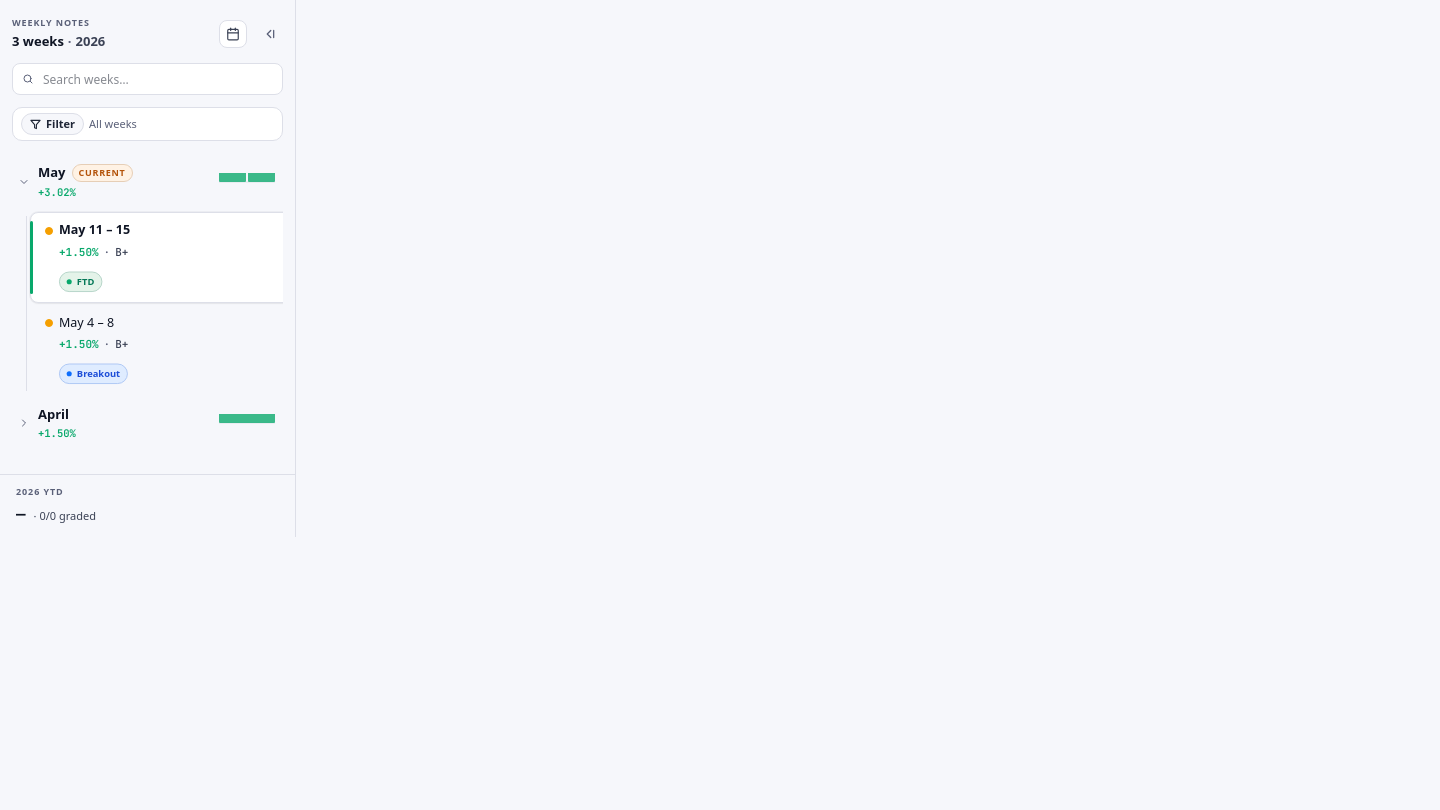
Test: NotesRail — Phase 6 left-rail navigator › multi-select: two selected tags use OR semantics — weeks matching either show
This screenshot has width=1440, height=810.
What coordinates should you click on to do the following:
click the button with test id "rail-filter-trigger"
I would click on:
 (52, 124)
Its box is [21,113,84,135].
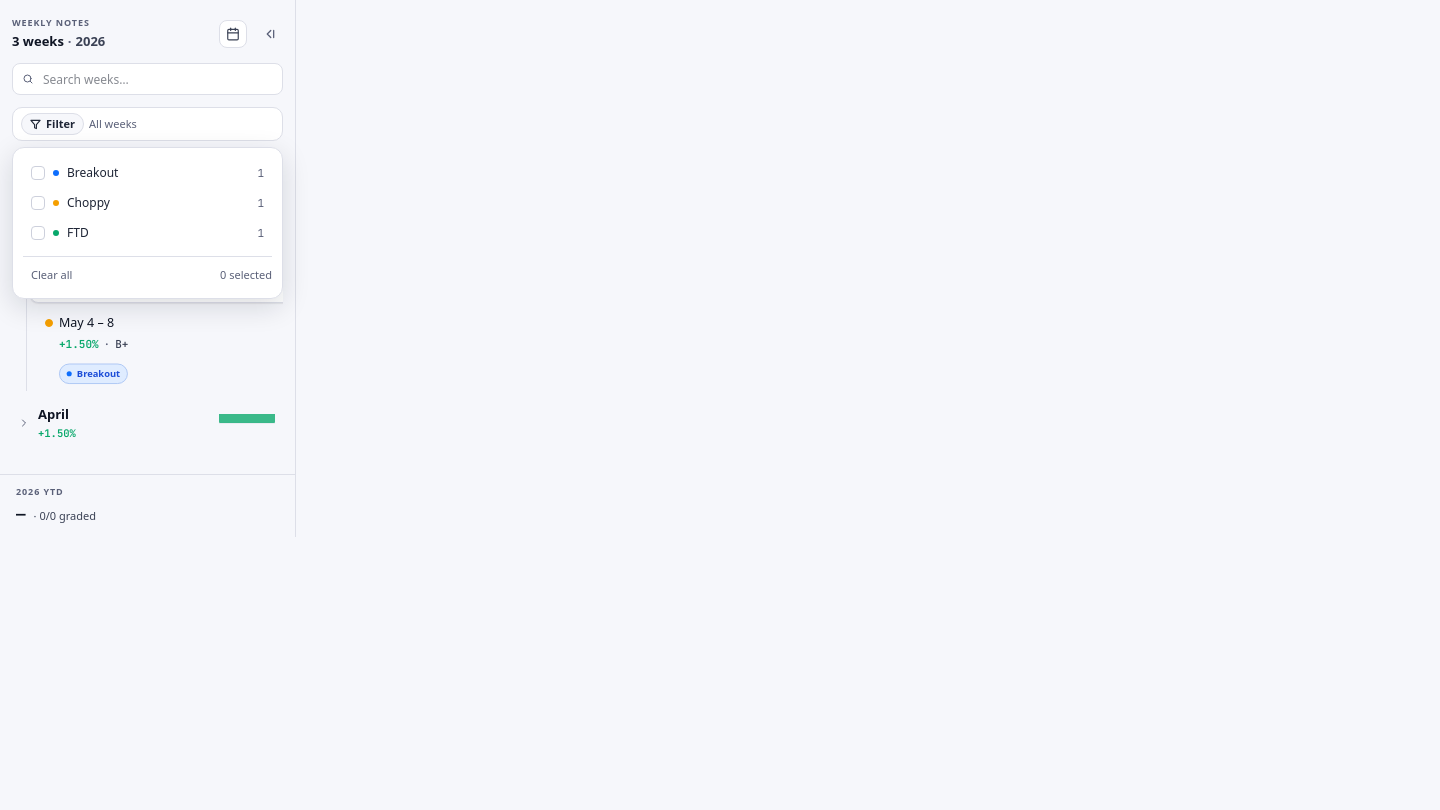
What coordinates should you click on to do the following:
click the button with test id "rail-filter-option" showing "FTD 1"
I would click on:
 (148, 233)
Its box is [23,218,272,248].
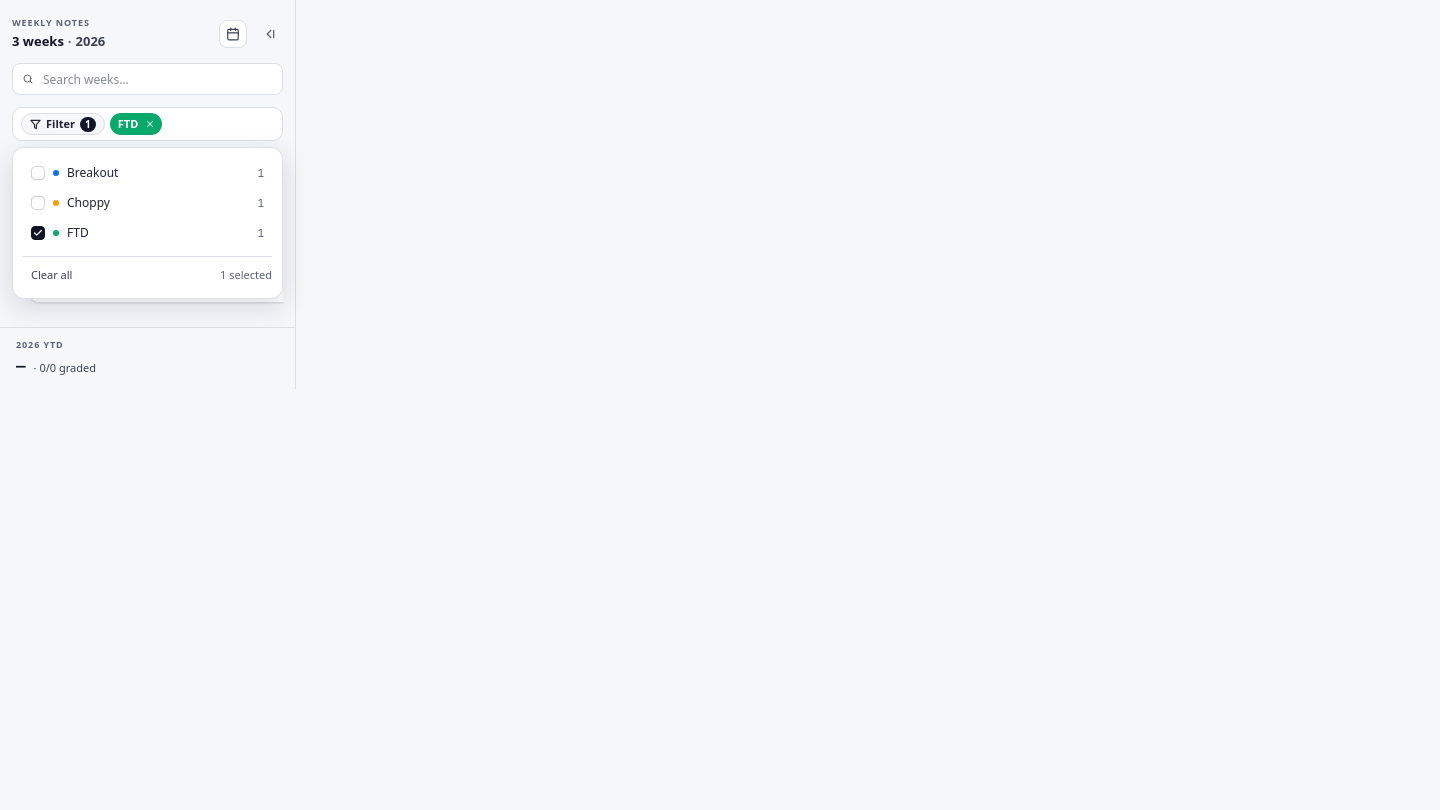
What coordinates should you click on to do the following:
click the button with test id "rail-filter-option" showing "Breakout 1"
I would click on:
 (148, 173)
Its box is [23,158,272,188].
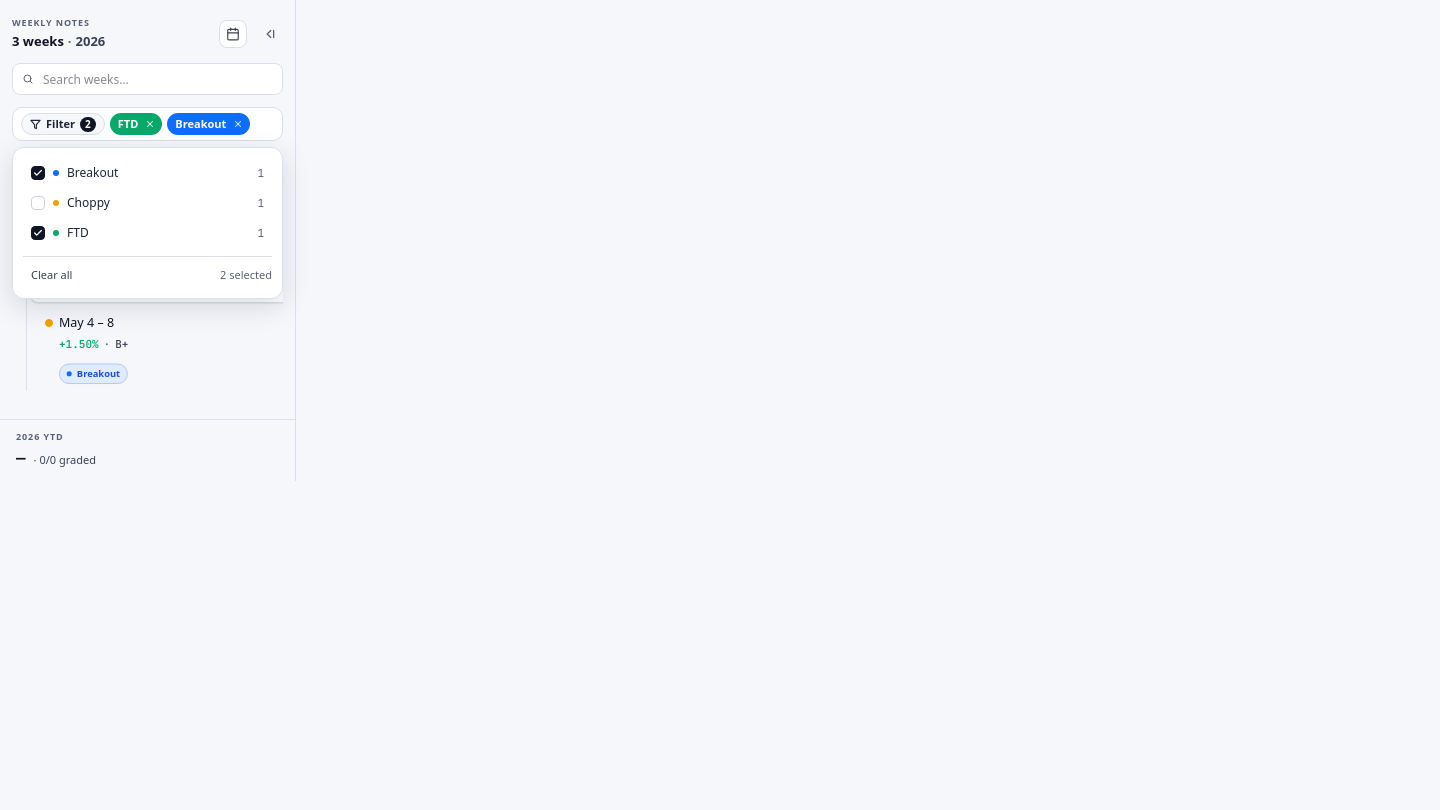
Check: the text "May 11 – 15" is shown, box [59,221,130,240]
Check: the text "May 4 – 8" is shown, box [59,314,114,332]
